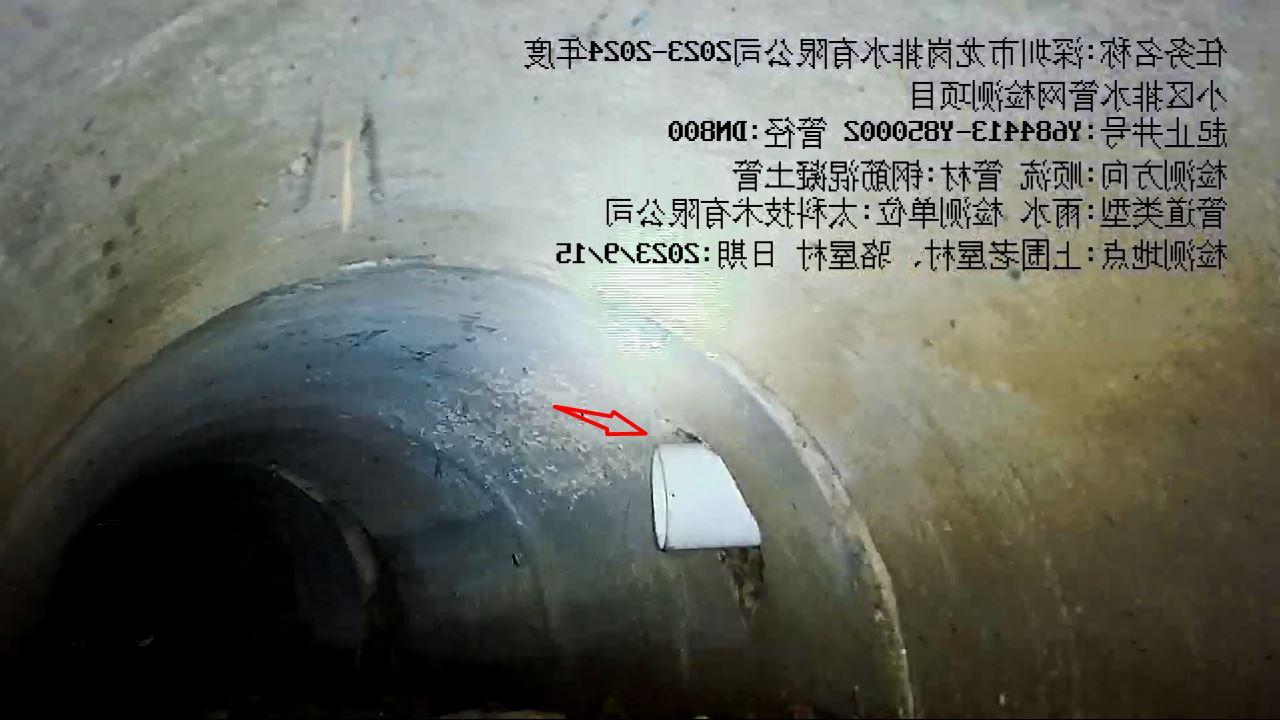CKTJ: (704, 352, 920, 715), (339, 254, 450, 271)
ZGAJ: (652, 443, 762, 550)
